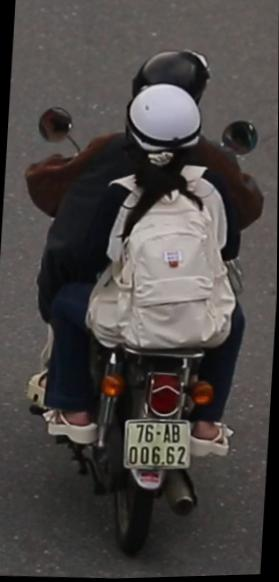LP: (116, 410, 200, 477)
helmet: (114, 80, 226, 220)
